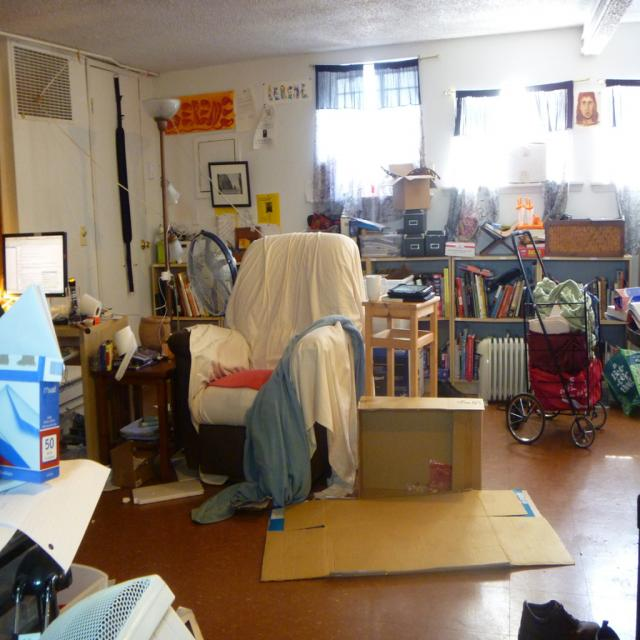chair: (167, 233, 367, 485)
desk: (73, 326, 178, 486)
person: (189, 314, 365, 528)
tv: (2, 232, 70, 300)
